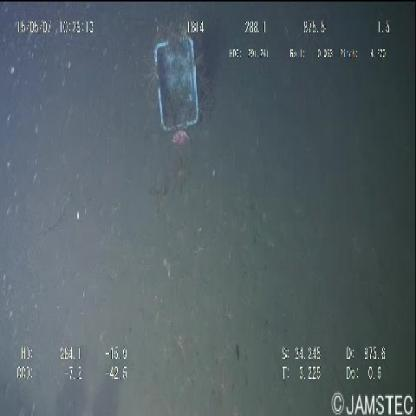Rác: (146, 22, 206, 146)
